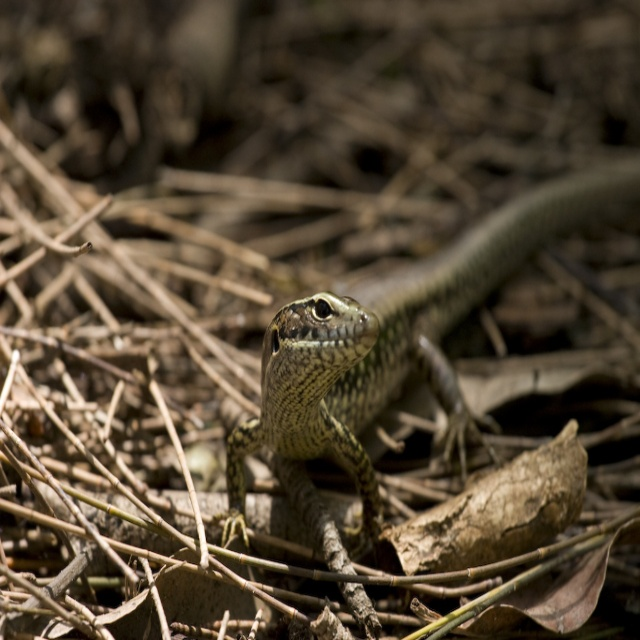Lizard: (224, 177, 618, 589)
